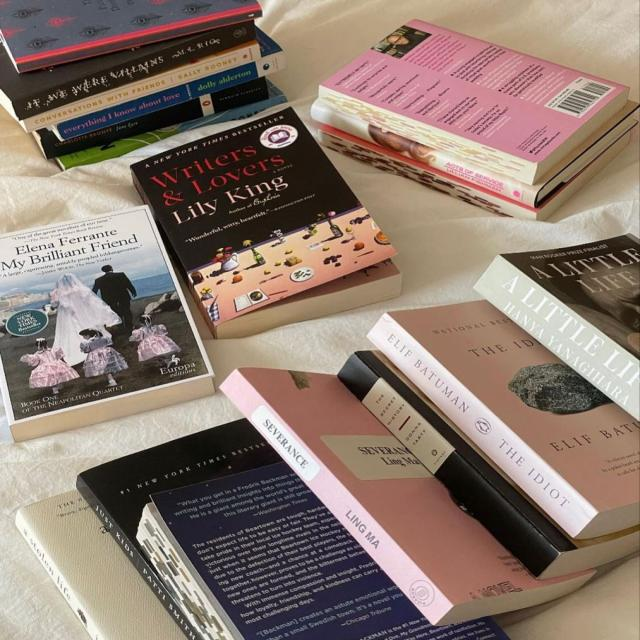book: (218, 367, 455, 622), (131, 106, 403, 326), (361, 311, 600, 545), (332, 354, 561, 585), (0, 203, 212, 423), (321, 20, 624, 168), (15, 17, 263, 114), (17, 39, 263, 132), (57, 47, 288, 140)
